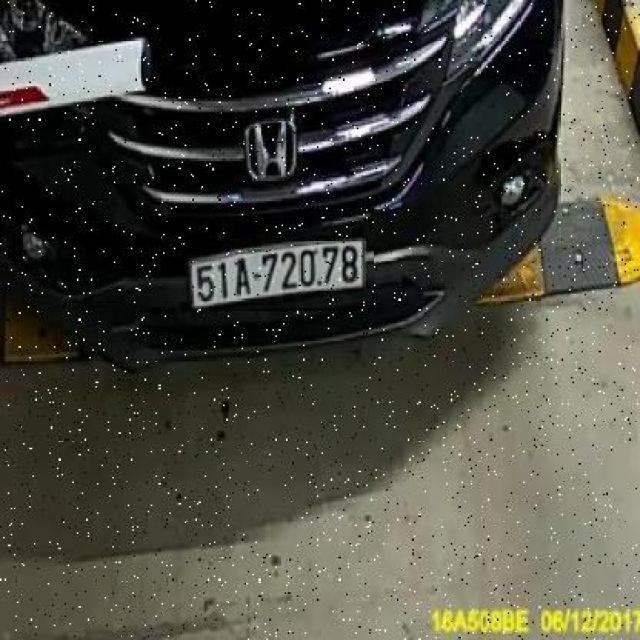number_plate: (180, 240, 374, 311)
